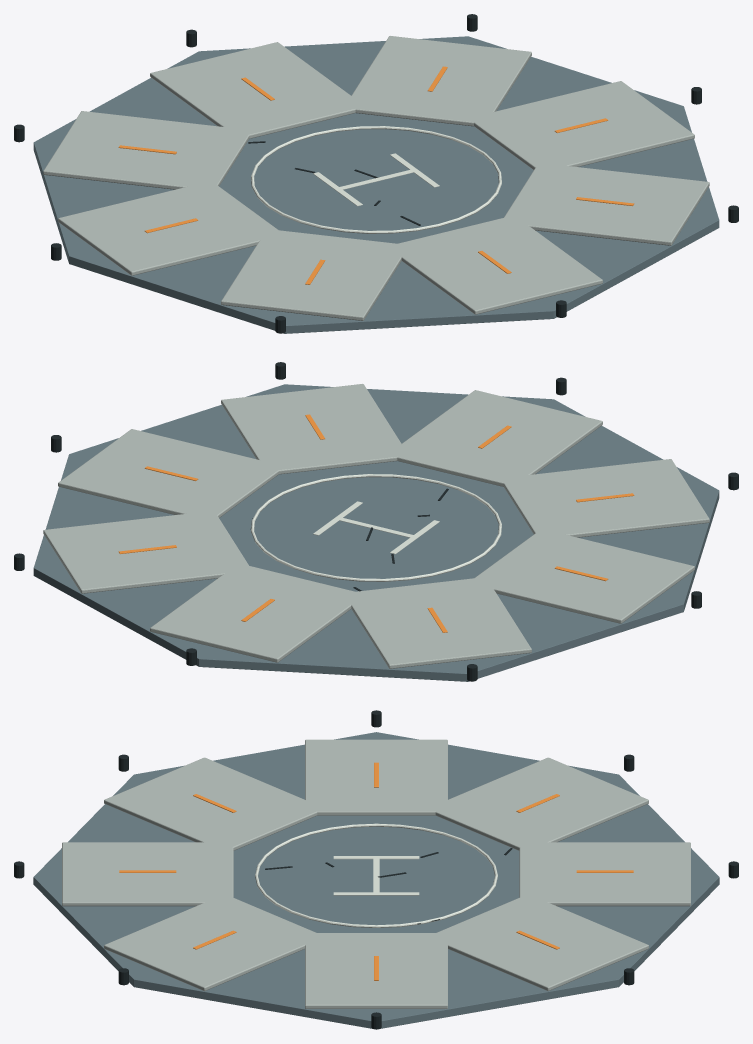
File: air_launchpad_d1.glb
3 renders of one model, top to bottom at view 1: azimuth 30°, elevation 25°; view 2: azimuth 150°, elevation 25°; view 3: azimuth 270°, elevation 25°, orthographic. The views are drawn at different scales.
Visible parts, largest first — view 1: Landing deck segment.001, Landing armor petal.008, Landing armor petal.013, Landing armor petal.010, Landing armor petal.014, Landing armor petal.015, Landing armor petal.012, Landing armor petal.011, Landing armor petal.009, Touchdown target.001; view 2: Landing deck segment.001, Landing armor petal.010, Landing armor petal.012, Landing armor petal.008, Landing armor petal.011, Landing armor petal.014, Landing armor petal.013, Landing armor petal.009, Landing armor petal.015, Touchdown target.001; view 3: Landing deck segment.001, Landing armor petal.013, Landing armor petal.011, Landing armor petal.015, Landing armor petal.009, Landing armor petal.010, Landing armor petal.012, Landing armor petal.014, Landing armor petal.008, Touchdown target.001.
Part boxes in pixels (x1,y1,x2,y2): Landing deck segment.001: (33,36,719,333); Landing armor petal.008: (469,81,694,171); Landing armor petal.013: (221,229,408,320); Landing armor petal.010: (150,42,364,138); Landing armor petal.014: (398,216,602,314); Landing armor petal.015: (502,165,709,245); Landing armor petal.012: (58,181,280,275); Landing armor petal.011: (43,111,249,189); Landing armor petal.009: (344,36,531,126); Touchdown target.001: (251,126,501,233); Landing deck segment.001: (33,384,719,681); Landing armor petal.010: (150,563,364,662); Landing armor petal.012: (469,529,694,623); Landing armor petal.008: (58,429,283,519); Landing armor petal.011: (345,577,531,668); Landing armor petal.014: (389,390,602,486); Landing armor petal.013: (501,459,709,537); Landing armor petal.009: (43,511,250,593); Landing armor petal.015: (221,384,407,474); Touchdown target.001: (251,474,501,581); Landing deck segment.001: (33,732,719,1028); Landing armor petal.013: (104,757,324,850); Landing armor petal.011: (429,757,648,850); Landing armor petal.015: (104,897,324,991); Landing armor petal.009: (436,897,648,991); Landing armor petal.010: (519,842,690,906); Landing armor petal.012: (305,739,447,815); Landing armor petal.014: (62,842,233,906); Landing armor petal.008: (305,933,447,1008); Touchdown target.001: (255,823,497,927).
Bounding box in the file's own units: 25.36 × 0.82 × 25.36.
